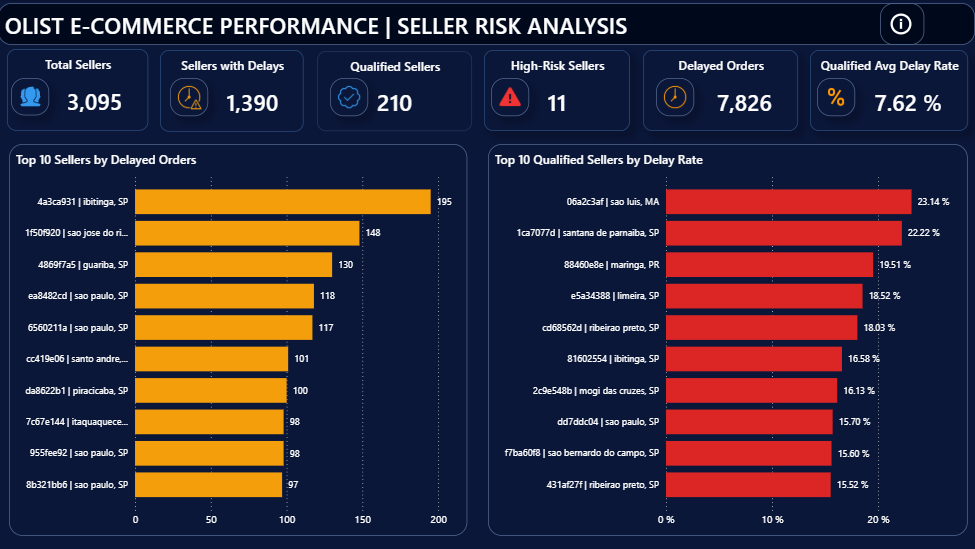

This screenshot's page, from the dashboard's own definition file:
{"tool":"powerbi","page":{"name":"Seller Risk Analysis","canvas":[1280,720],"ordinal":4},"visuals":[{"type":"cardVisual","title":"Qualified Sellers","fields":{"Data":["analytics fact_sales.Qualified Sellers Card"]},"box":[417.1,68.1,203.3,105],"z":0},{"type":"cardVisual","title":"Total Sellers","fields":{"Data":["analytics fact_sales.Total Sellers Card"]},"box":[11.8,66,184.6,107.3],"z":1000},{"type":"cardVisual","title":"Sellers with Delays","fields":{"Data":["analytics fact_sales.Sellers with Delays Card"]},"box":[212.5,67.3,188.3,106.7],"z":2000},{"type":"cardVisual","title":"High-Risk Sellers","fields":{"Data":["analytics fact_sales.High Risk Sellers Card"]},"box":[636.6,67.1,191.1,106],"z":3000},{"type":"cardVisual","title":"Delayed Orders","fields":{"Data":["analytics fact_sales.Seller Delayed Orders Card"]},"box":[843.9,67.2,202.9,106],"z":4000},{"type":"cardVisual","title":"Qualified Avg Delay Rate","fields":{"Data":["analytics fact_sales.Avg Qualified Seller Delay Rate"]},"box":[1063,67.3,206.8,106],"z":5000},{"type":"image","box":[435.3,103,50,50],"z":6000},{"type":"image","box":[17.3,103.7,50.4,49],"z":7000},{"type":"image","box":[861.1,103,50,50],"z":8000},{"type":"image","box":[1071.7,103,50,50],"z":9000},{"type":"image","box":[224.7,103,50,50],"z":10000},{"type":"image","box":[645.8,103,50,50],"z":11000},{"type":"shape","title":"OLIST E-COMMERCE PERFORMANCE | SELLER RISK ANALYSIS","box":[0,5.2,1279,55],"z":12000},{"type":"actionButton","box":[1154.6,5.2,57.6,55],"z":13000},{"type":"clusteredBarChart","title":"Top 10 Sellers by Delayed Orders","fields":{"Category":["analytics fact_sales.Seller Label"],"Y":["analytics fact_sales.Seller Delayed Orders"]},"box":[15,190,600,513.3],"z":14000},{"type":"clusteredBarChart","title":"Top 10 Qualified Sellers by Delay Rate","fields":{"Category":["analytics fact_sales.Seller Label"],"Y":["analytics fact_sales.Seller Delay Rate %"]},"box":[641.7,190,628.3,513.3],"z":15000}]}

Visuals, with their boxes in screenshot pixels (x1, y1, x2, y2), scaled from the page's 1280x720 canvas onto the 975x549 screenshot:
"Qualified Sellers" cardVisual: (left=318, top=52, right=473, bottom=132)
"Total Sellers" cardVisual: (left=9, top=50, right=150, bottom=132)
"Sellers with Delays" cardVisual: (left=162, top=51, right=305, bottom=133)
"High-Risk Sellers" cardVisual: (left=485, top=51, right=630, bottom=132)
"Delayed Orders" cardVisual: (left=643, top=51, right=797, bottom=132)
"Qualified Avg Delay Rate" cardVisual: (left=810, top=51, right=967, bottom=132)
image: (left=332, top=79, right=370, bottom=117)
image: (left=13, top=79, right=52, bottom=116)
image: (left=656, top=79, right=694, bottom=117)
image: (left=816, top=79, right=854, bottom=117)
image: (left=171, top=79, right=209, bottom=117)
image: (left=492, top=79, right=530, bottom=117)
"OLIST E-COMMERCE PERFORMANCE | SELLER RISK ANALYSIS" shape: (left=0, top=4, right=974, bottom=46)
actionButton: (left=879, top=4, right=923, bottom=46)
"Top 10 Sellers by Delayed Orders" clusteredBarChart: (left=11, top=145, right=468, bottom=536)
"Top 10 Qualified Sellers by Delay Rate" clusteredBarChart: (left=489, top=145, right=967, bottom=536)
